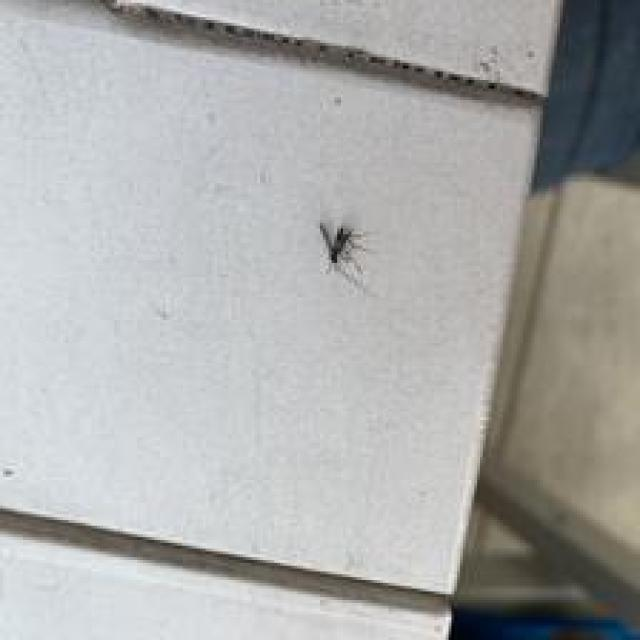Aedes albopictus: (317, 220, 369, 280)
